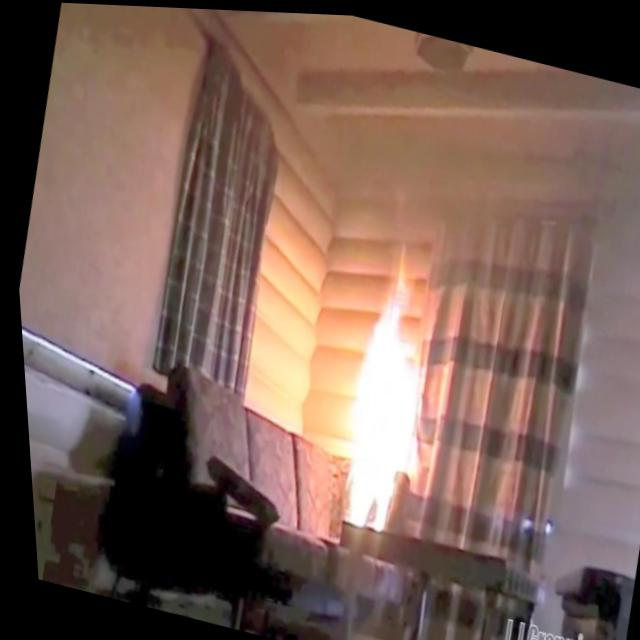fire: (304, 238, 464, 548)
